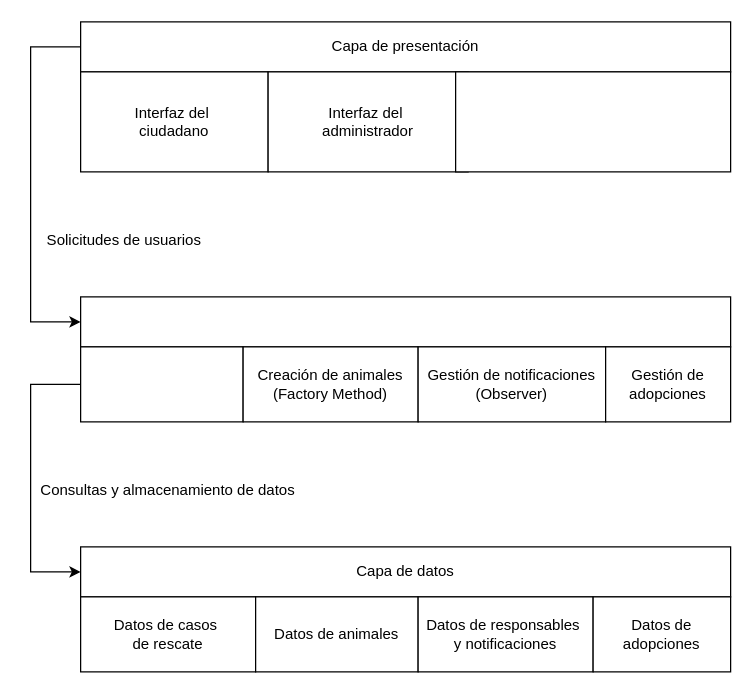
This 753x694 diagram has some shape labels left out. The centre of each missing label's shape, as x and y in pixels:
"Capa de lógica de negocio" belongs at (405,321).
"GestorCasosRescate (Singleton)" belongs at (161,384).
"Interfaz del voluntario / veterinario" belongs at (592,121).
